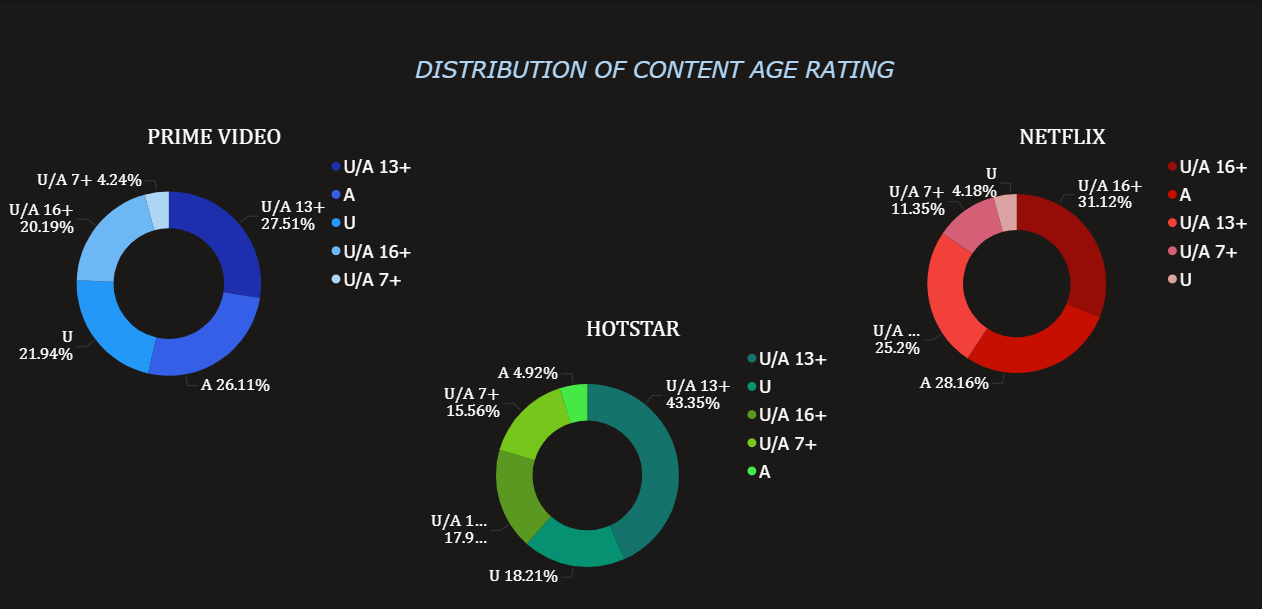

This screenshot's page, from the dashboard's own definition file:
{"tool":"powerbi","page":{"name":"Page 2","canvas":[1500,730],"ordinal":1},"visuals":[{"type":"donutChart","title":"HOTSTAR","fields":{"Category":["hotstar.Rating"],"Y":["CountNonNull(hotstar.title)"]},"box":[498.5,363.8,504.3,365.7],"z":3},{"type":"donutChart","title":"NETFLIX","fields":{"Category":["netflix.Rating"],"Y":["CountNonNull(netflix.title)"]},"box":[1016,137.1,483.8,366.1],"z":4},{"type":"donutChart","title":"PRIME VIDEO","fields":{"Category":["prime.Rating"],"Y":["CountNonNull(prime.title)"]},"box":[0,137.1,511.2,366.1],"z":5},{"type":"textbox","box":[467.7,52,615.9,84.7],"z":6}]}

Visuals, with their boxes in screenshot pixels (x1, y1, x2, y2), scaled from the page's 1500x730 canvas onto the 1262x609 screenshot:
"HOTSTAR" donutChart: (left=419, top=303, right=844, bottom=608)
"NETFLIX" donutChart: (left=855, top=114, right=1261, bottom=420)
"PRIME VIDEO" donutChart: (left=0, top=114, right=430, bottom=420)
textbox: (left=393, top=43, right=912, bottom=114)
